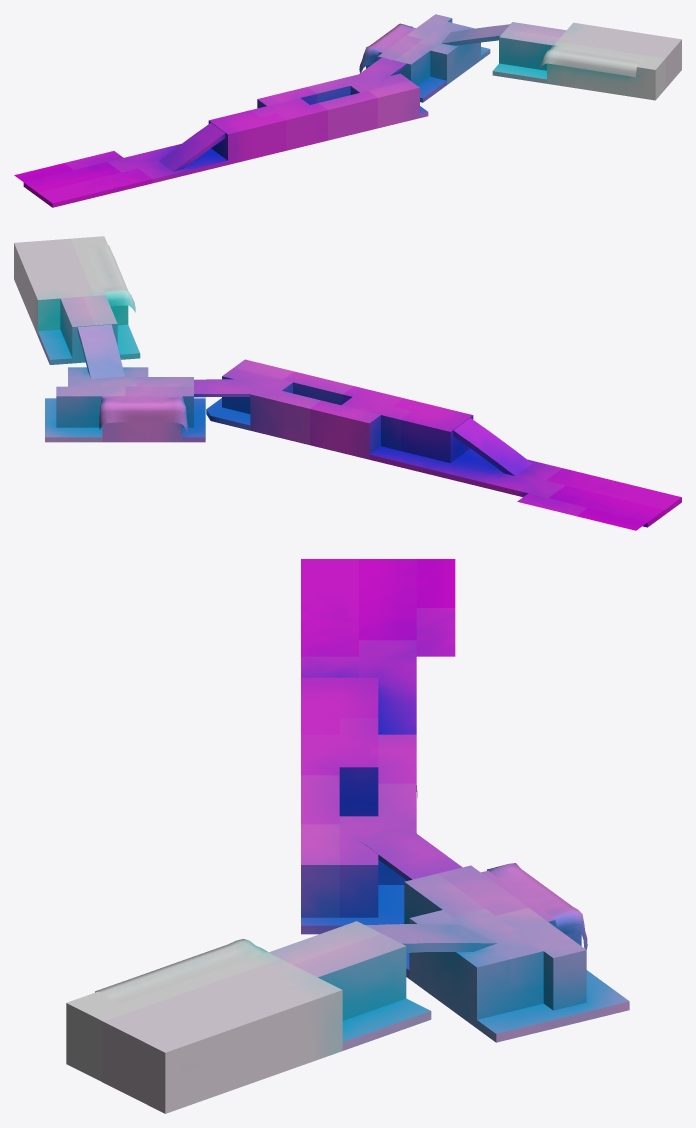
File: D2_MapBaked.fbx
The picture shows the model from 3 angles, top to bottom: view 1: azimuth 30°, elevation 25°; view 2: azimuth 150°, elevation 25°; view 3: azimuth 270°, elevation 25°; orthographic projection. The views are drawn at different scales.
Visible parts, largest first — view 1: object_merge10; view 2: object_merge10; view 3: object_merge10.
Boxes of the visible parts, x1,y1,x2,y2 form: object_merge10: (14,14,681,207); object_merge10: (14,236,681,530); object_merge10: (66,559,629,1113).
Bounding box in the file's own units: 7133 × 567 × 2923.
